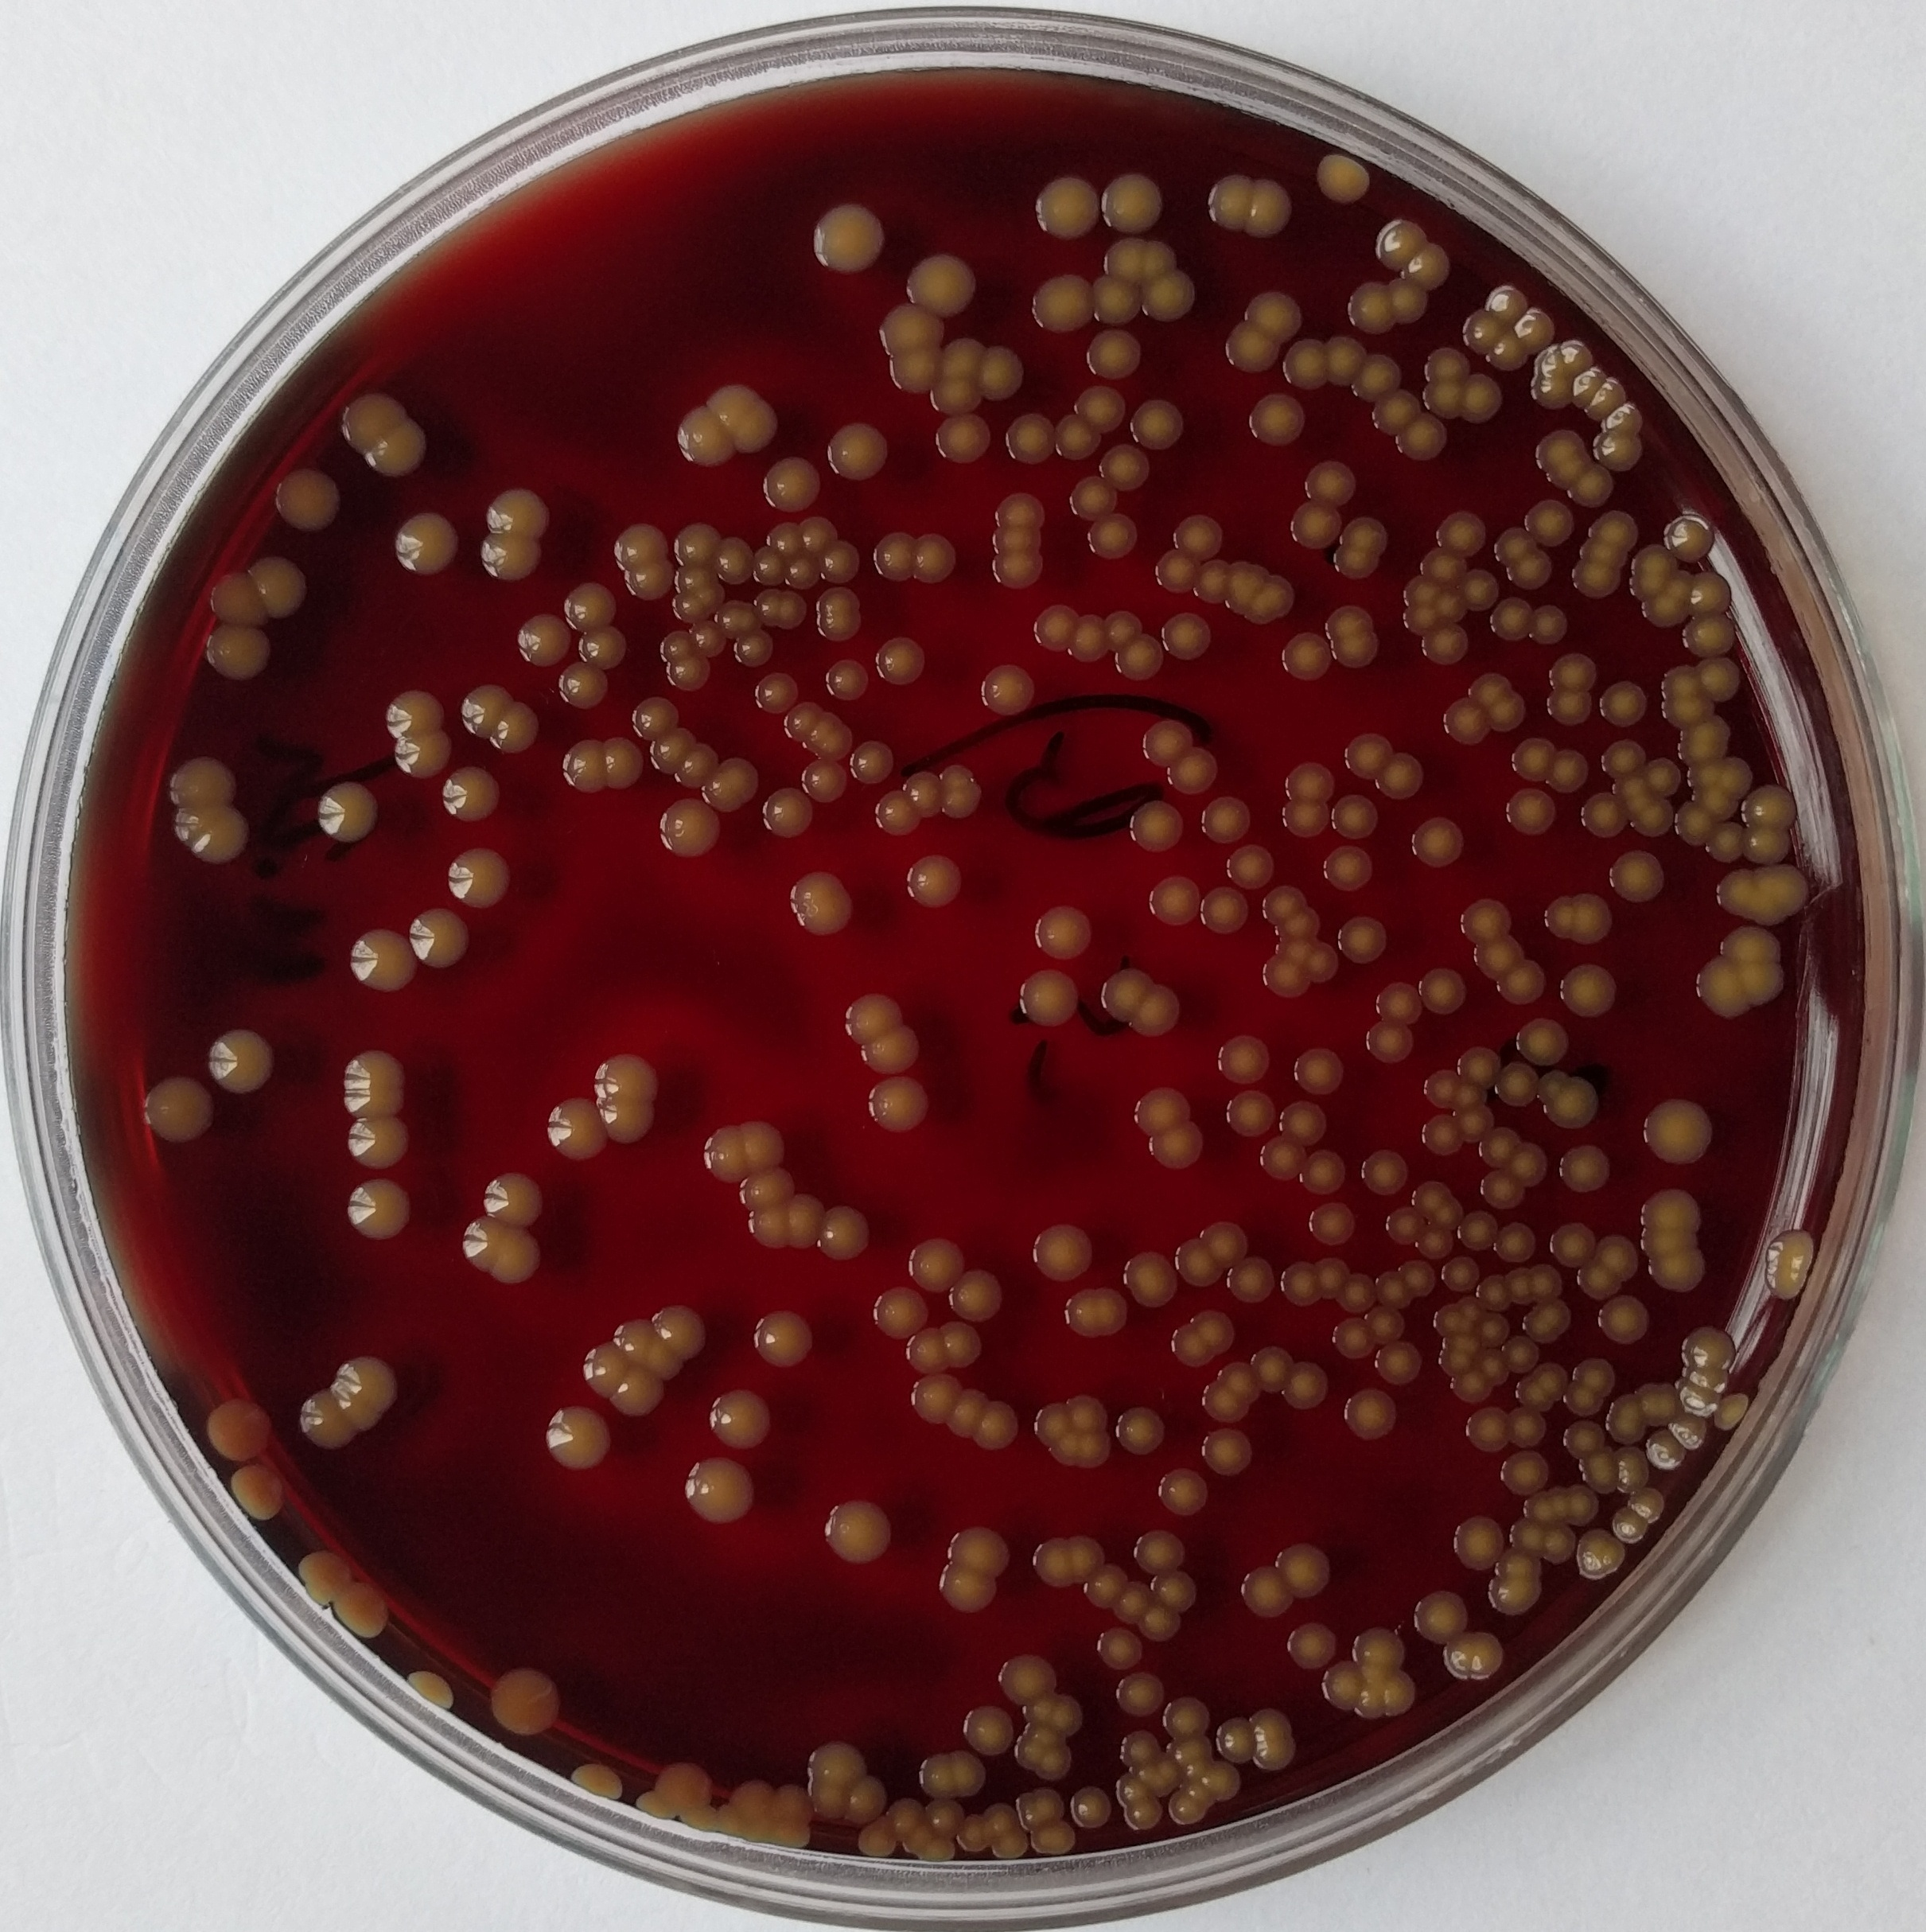sp21: (1714, 856, 1813, 933), (196, 1389, 280, 1477), (815, 1491, 903, 1570), (1637, 1089, 1721, 1170), (171, 796, 265, 866), (806, 196, 889, 275), (330, 1348, 404, 1434), (677, 1454, 757, 1531), (489, 1659, 568, 1736), (543, 1396, 621, 1475), (139, 1071, 219, 1147), (344, 919, 420, 999), (393, 503, 464, 584), (446, 843, 520, 917), (275, 462, 349, 536), (199, 619, 277, 690), (711, 376, 780, 455), (654, 792, 728, 865), (1028, 173, 1104, 243), (208, 1023, 279, 1096), (249, 550, 316, 626), (1760, 1223, 1820, 1307), (704, 1387, 776, 1456), (356, 420, 439, 480), (342, 1177, 416, 1244), (787, 866, 854, 940), (907, 251, 982, 316), (312, 780, 383, 849), (825, 416, 898, 483), (753, 1302, 820, 1374), (342, 1048, 409, 1120), (436, 760, 508, 827), (164, 752, 240, 815), (1026, 1219, 1097, 1286), (1014, 965, 1085, 1032), (1097, 171, 1171, 235), (651, 1292, 713, 1367), (1556, 956, 1623, 1025), (1028, 268, 1099, 333), (543, 1090, 608, 1161), (672, 401, 737, 471), (942, 1519, 1016, 1581), (291, 1389, 358, 1456), (406, 902, 473, 969), (455, 1210, 524, 1276), (591, 1045, 660, 1110), (342, 386, 407, 455), (224, 1457, 287, 1528), (344, 1112, 416, 1173), (1240, 168, 1298, 243), (873, 298, 949, 356), (898, 852, 967, 916), (758, 450, 827, 513), (1081, 321, 1152, 383), (478, 1166, 545, 1230), (1243, 390, 1314, 450), (478, 526, 549, 586), (935, 1561, 1007, 1620), (1064, 1283, 1138, 1337), (1591, 1284, 1654, 1348), (1450, 1510, 1512, 1576), (702, 755, 764, 820), (1342, 273, 1402, 341), (1443, 1627, 1510, 1687), (485, 1228, 552, 1288), (900, 1235, 968, 1293), (485, 482, 554, 540), (1695, 951, 1751, 1022), (1249, 1703, 1305, 1773), (1275, 1537, 1337, 1600), (333, 1577, 395, 1641), (210, 566, 272, 630), (1609, 843, 1668, 909), (1123, 796, 1189, 856), (730, 1156, 797, 1214), (593, 1094, 660, 1152), (399, 1659, 460, 1720), (1407, 812, 1471, 872), (1210, 1027, 1273, 1087), (1032, 902, 1095, 962), (931, 408, 997, 466), (1131, 1082, 1196, 1140), (838, 990, 905, 1046), (379, 681, 446, 738), (818, 1198, 873, 1267), (1153, 1461, 1215, 1521), (1273, 628, 1337, 686), (1219, 1083, 1282, 1142), (1118, 1249, 1182, 1307), (866, 1078, 929, 1136), (1674, 711, 1739, 768), (1540, 1075, 1605, 1131), (870, 1284, 937, 1339), (1139, 266, 1199, 326), (760, 783, 820, 843), (1312, 148, 1374, 206), (1370, 213, 1429, 275), (1129, 392, 1191, 450), (1288, 492, 1349, 550), (977, 663, 1039, 722), (1513, 1009, 1577, 1066), (1413, 1584, 1469, 1648), (698, 1120, 755, 1184), (942, 1269, 1007, 1323), (483, 700, 549, 755), (1720, 917, 1787, 970), (557, 730, 610, 798), (1674, 607, 1743, 658), (1677, 1320, 1746, 1371), (393, 729, 462, 780), (1086, 268, 1145, 328), (1291, 1041, 1349, 1101), (1340, 1383, 1399, 1443), (1199, 1422, 1259, 1480), (1097, 965, 1157, 1023), (1203, 171, 1259, 233), (610, 1359, 667, 1420), (1561, 455, 1624, 510), (1552, 1140, 1617, 1193), (1325, 625, 1392, 676), (993, 1651, 1060, 1703), (582, 1336, 633, 1403), (1644, 1246, 1713, 1295), (1503, 782, 1561, 840), (1238, 1561, 1296, 1620), (1393, 413, 1453, 469), (1337, 909, 1393, 969), (1356, 1143, 1416, 1200), (1571, 1526, 1631, 1583), (300, 1544, 356, 1604), (519, 610, 575, 670), (614, 513, 674, 570), (1243, 286, 1305, 341), (1071, 381, 1132, 436), (1150, 870, 1205, 932), (882, 341, 945, 393), (1094, 438, 1157, 490), (1146, 1120, 1212, 1172), (859, 1025, 926, 1075), (1737, 775, 1794, 833), (1734, 951, 1790, 1009), (963, 1699, 1019, 1757), (907, 1373, 963, 1431), (1198, 790, 1256, 847), (873, 633, 929, 692), (1302, 453, 1362, 508), (1540, 681, 1600, 736), (1455, 889, 1515, 944), (1318, 840, 1379, 893), (804, 1734, 866, 1787), (1129, 1526, 1192, 1577), (921, 371, 991, 416), (1519, 1293, 1577, 1348), (1496, 1445, 1554, 1500), (1127, 983, 1185, 1037), (1081, 506, 1139, 561), (1168, 510, 1228, 563), (1108, 632, 1169, 683), (979, 341, 1028, 404), (1660, 512, 1723, 561), (564, 1754, 628, 1803), (1002, 409, 1058, 464), (1365, 1013, 1422, 1067), (1593, 1230, 1647, 1286), (1549, 1216, 1603, 1272), (1111, 1404, 1168, 1459), (653, 1754, 707, 1810), (1416, 618, 1474, 670), (1155, 609, 1213, 662), (1467, 930, 1526, 983), (1194, 882, 1252, 935), (1111, 1669, 1169, 1722), (735, 1117, 788, 1175), (459, 685, 517, 738), (1563, 556, 1630, 602), (1282, 1355, 1333, 1415), (1527, 348, 1577, 409), (1568, 887, 1617, 949), (944, 1383, 993, 1445), (815, 584, 864, 646), (1584, 501, 1647, 549), (601, 730, 647, 796), (1226, 318, 1280, 372), (1522, 494, 1577, 549), (1416, 965, 1471, 1020), (1386, 270, 1439, 326), (1346, 351, 1402, 404), (1459, 1401, 1512, 1457), (1372, 1337, 1429, 1390), (1196, 1216, 1252, 1269), (1340, 729, 1399, 780), (1282, 1618, 1340, 1669), (935, 760, 986, 819), (1134, 716, 1192, 768), (561, 579, 619, 630), (711, 529, 762, 588), (1459, 371, 1508, 431), (1273, 1097, 1333, 1147), (647, 718, 697, 778), (1280, 335, 1328, 397), (1587, 427, 1649, 475), (1640, 1189, 1702, 1237), (1483, 1569, 1545, 1616), (1637, 1221, 1706, 1263), (1406, 236, 1459, 291), (1436, 503, 1490, 556), (1252, 570, 1307, 623), (1372, 976, 1427, 1029), (1469, 1117, 1522, 1172), (938, 1318, 991, 1373), (1365, 381, 1422, 432), (1693, 649, 1744, 706), (1603, 1390, 1654, 1447), (780, 1191, 824, 1256), (871, 528, 921, 586), (933, 328, 993, 376), (1686, 566, 1739, 619), (898, 1323, 951, 1376), (1173, 1237, 1228, 1288), (1166, 746, 1221, 798), (1441, 697, 1497, 746), (1545, 741, 1594, 798), (1247, 1341, 1296, 1397), (870, 789, 926, 838), (628, 693, 684, 743), (1508, 729, 1556, 787), (1542, 648, 1601, 693), (1321, 1655, 1367, 1715), (1328, 790, 1381, 842), (1226, 1253, 1279, 1304), (1065, 471, 1120, 520), (1529, 422, 1584, 471), (1282, 755, 1337, 805), (804, 1770, 854, 1824), (750, 667, 804, 716), (1653, 690, 1716, 732), (1739, 820, 1795, 868), (1571, 1253, 1628, 1300), (797, 757, 854, 805), (556, 663, 612, 711), (577, 625, 633, 672), (1601, 676, 1647, 734), (1051, 411, 1102, 462), (1499, 545, 1561, 588), (1494, 1057, 1543, 1110), (1370, 1267, 1420, 1320), (1256, 1134, 1309, 1184), (1168, 1323, 1221, 1373), (1028, 602, 1078, 655), (1482, 589, 1529, 644), (1503, 1134, 1550, 1189), (1302, 939, 1349, 993), (1224, 843, 1279, 891), (854, 1810, 901, 1865), (975, 1397, 1021, 1454), (1198, 1382, 1254, 1427), (989, 489, 1046, 535), (616, 559, 676, 602), (1097, 235, 1146, 286), (1462, 307, 1513, 356), (1510, 298, 1559, 349), (1148, 545, 1198, 596), (1296, 1147, 1346, 1198), (1642, 1422, 1691, 1473), (1095, 1623, 1146, 1673), (1146, 1567, 1198, 1616), (1415, 542, 1467, 589), (1579, 787, 1626, 840), (1213, 1713, 1261, 1766), (1161, 1694, 1213, 1741), (1279, 792, 1333, 838), (1256, 955, 1310, 1000), (1226, 559, 1268, 618), (1347, 1623, 1406, 1666), (1374, 752, 1425, 799), (1478, 1166, 1529, 1214), (1379, 1202, 1430, 1249), (910, 535, 958, 586), (848, 736, 896, 787), (672, 517, 723, 565), (1422, 341, 1474, 386), (1416, 1105, 1462, 1157), (1577, 1445, 1623, 1498), (1065, 1533, 1111, 1586), (1328, 542, 1383, 586), (1318, 600, 1379, 639), (988, 550, 1044, 593), (1538, 448, 1596, 489), (1496, 958, 1543, 1007), (1330, 1270, 1377, 1320), (1275, 1258, 1323, 1307), (1191, 1306, 1238, 1355), (1487, 328, 1533, 379), (1305, 1200, 1356, 1246), (746, 1200, 792, 1251), (672, 739, 718, 790), (1321, 333, 1365, 386), (1485, 279, 1529, 332), (1194, 556, 1238, 609), (1538, 889, 1582, 942), (1489, 1544, 1549, 1583), (947, 1745, 989, 1800), (1032, 1535, 1074, 1590), (1489, 1219, 1536, 1267), (1198, 1754, 1245, 1801), (1704, 820, 1753, 866), (1455, 1210, 1504, 1256), (1635, 1380, 1681, 1429), (1503, 1517, 1552, 1563), (1067, 1784, 1116, 1830), (1111, 1576, 1157, 1625), (1081, 1561, 1127, 1611), (824, 655, 870, 704), (989, 524, 1048, 563), (1582, 379, 1633, 423), (845, 1773, 889, 1824), (1256, 882, 1309, 925), (1326, 1314, 1379, 1357), (1609, 1440, 1649, 1494), (1455, 566, 1503, 612), (1485, 690, 1533, 736), (713, 598, 758, 646), (1490, 522, 1540, 566), (1624, 559, 1674, 603), (1624, 1479, 1668, 1528), (1215, 1360, 1265, 1404), (1527, 600, 1570, 651), (1639, 589, 1690, 632), (1688, 782, 1739, 824), (1455, 1039, 1497, 1090), (1444, 1364, 1496, 1406), (1668, 1380, 1720, 1422), (900, 769, 942, 820), (1065, 610, 1108, 662), (1672, 794, 1713, 847), (778, 699, 824, 745), (686, 616, 732, 662), (1570, 1353, 1617, 1397), (1041, 1424, 1085, 1471), (887, 1791, 931, 1838), (730, 625, 774, 672), (817, 536, 861, 584), (1422, 376, 1464, 425), (1344, 512, 1393, 554), (1656, 658, 1706, 700), (1134, 1602, 1183, 1644), (1014, 1786, 1065, 1826), (751, 540, 792, 591), (1557, 1417, 1610, 1456), (1600, 732, 1646, 776), (1633, 794, 1677, 840), (1415, 1067, 1460, 1112), (1455, 1101, 1501, 1145), (1524, 1256, 1568, 1302), (1064, 1390, 1109, 1434), (915, 1828, 961, 1872), (1413, 1217, 1460, 1260), (1542, 1519, 1584, 1567), (667, 588, 714, 630), (1568, 356, 1609, 406), (1116, 1727, 1166, 1768), (1626, 536, 1677, 575), (1429, 1300, 1480, 1339), (1499, 1334, 1543, 1378), (1667, 1408, 1711, 1452), (1561, 1482, 1605, 1526), (924, 1796, 968, 1840), (776, 1777, 822, 1819), (1434, 1251, 1480, 1293), (1714, 1390, 1755, 1438), (767, 519, 808, 566), (1275, 905, 1325, 944), (1594, 397, 1646, 434), (1681, 1359, 1732, 1396), (1561, 1378, 1605, 1420), (1365, 1302, 1409, 1344), (1139, 235, 1180, 281), (1409, 1180, 1455, 1221), (1399, 1258, 1444, 1299), (914, 1754, 954, 1800), (1660, 561, 1698, 609), (1529, 1360, 1577, 1399), (1166, 1729, 1213, 1768), (1122, 1794, 1169, 1833), (1579, 535, 1630, 570), (1473, 1270, 1515, 1313), (734, 1778, 778, 1819), (1640, 753, 1681, 798), (1503, 1406, 1549, 1445), (1399, 572, 1446, 609), (1467, 669, 1515, 706), (1716, 750, 1753, 798), (1381, 1667, 1418, 1715), (1164, 1787, 1212, 1824), (1074, 1424, 1111, 1471), (774, 588, 811, 635), (1399, 600, 1441, 640), (1681, 748, 1723, 789), (1474, 1344, 1517, 1385), (1517, 1489, 1559, 1530), (1037, 1743, 1078, 1786), (1051, 1689, 1090, 1733), (1030, 1399, 1069, 1443), (797, 515, 836, 559), (1032, 1819, 1078, 1856), (1113, 1770, 1161, 1805), (1512, 1373, 1554, 1412), (1310, 1256, 1349, 1299), (1102, 609, 1141, 651), (1016, 1689, 1060, 1726), (631, 1789, 677, 1824), (665, 658, 711, 693), (1011, 1731, 1049, 1771), (954, 1810, 993, 1851), (781, 549, 820, 589), (989, 1828, 1032, 1865), (658, 626, 700, 663), (1542, 1482, 1575, 1528), (1430, 586, 1471, 623), (1430, 1194, 1471, 1232), (1471, 1313, 1513, 1348), (1175, 1777, 1221, 1808), (690, 577, 730, 612), (1436, 1329, 1483, 1359), (1501, 1263, 1534, 1306), (1434, 1344, 1476, 1378), (1556, 337, 1596, 371), (1355, 1680, 1388, 1720), (674, 558, 714, 591), (1450, 1076, 1487, 1112), (1610, 1503, 1644, 1542), (773, 1817, 815, 1847), (1268, 933, 1310, 963), (982, 1800, 1018, 1835), (1533, 1064, 1568, 1097), (1455, 1292, 1492, 1322), (753, 586, 780, 626), (898, 1824, 929, 1858), (741, 1814, 776, 1844), (716, 1801, 746, 1835), (679, 1805, 714, 1833), (1178, 1756, 1208, 1784)
